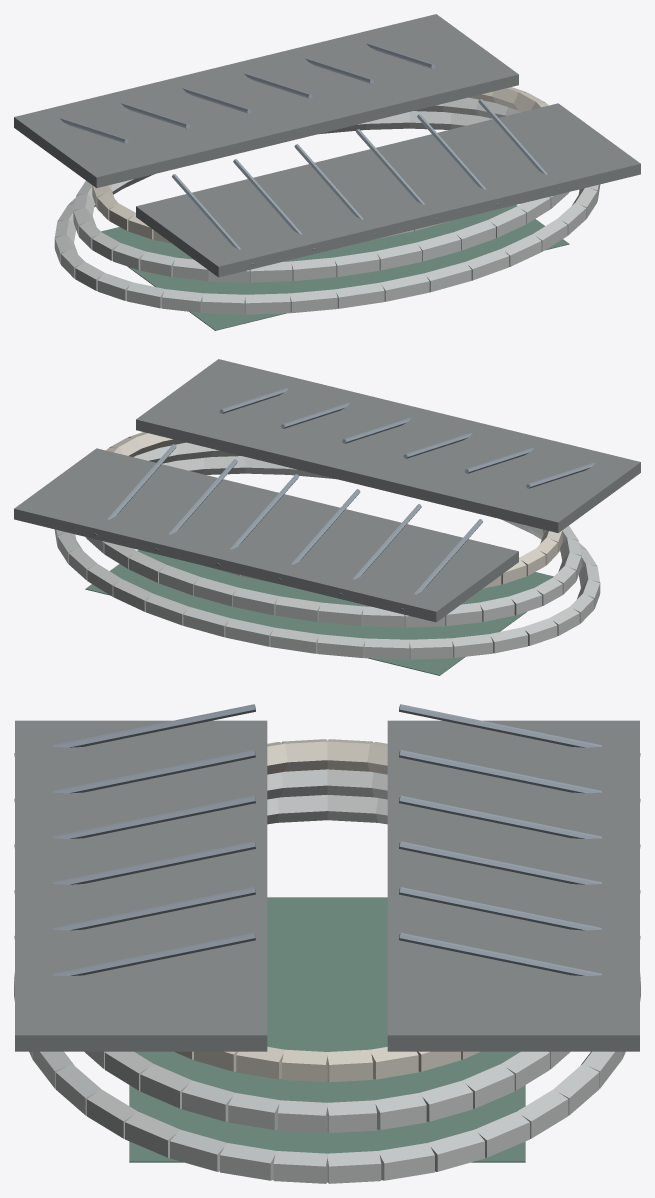
The picture shows the model from 3 angles, top to bottom: view 1: azimuth 30°, elevation 25°; view 2: azimuth 150°, elevation 25°; view 3: azimuth 270°, elevation 25°; orthographic projection. The views are drawn at different scales.
Visible parts, largest first — view 1: worldgen; view 2: worldgen; view 3: worldgen.
Part boxes in pixels (left/top/right/bottom): worldgen: left=14, top=14, right=640, bottom=330; worldgen: left=14, top=359, right=640, bottom=675; worldgen: left=14, top=704, right=640, bottom=1183.
Size of the model in its own units: 148 by 35.55 by 104.
